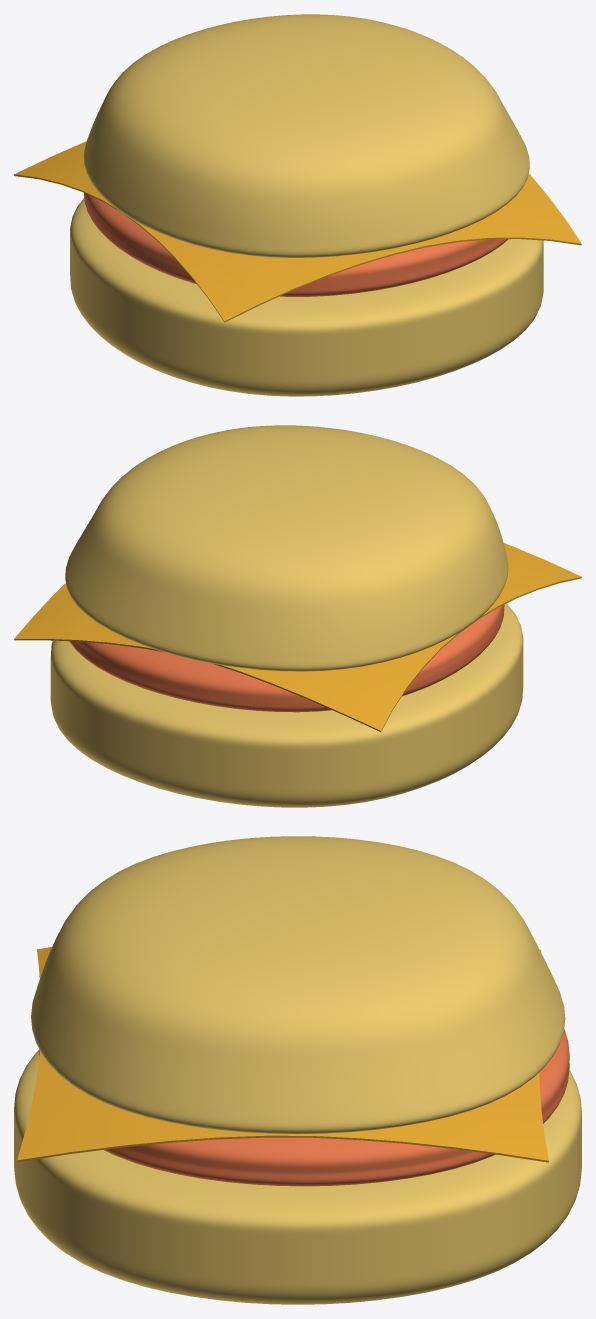
Rendered from hamburger.glb.
3 views of the same model, one above another, from view 1: azimuth 30°, elevation 25°; view 2: azimuth 150°, elevation 25°; view 3: azimuth 270°, elevation 25° (orthographic). The views are drawn at different scales.
Visible parts, largest first — view 1: Cube.002, Cube, Plane, Cube.001; view 2: Cube.002, Cube, Plane, Cube.001; view 3: Cube.002, Cube, Plane, Cube.001.
Part boxes in pixels (x1=…): Cube.002: x1=83, y1=14, x2=529, y2=257; Cube: x1=70, y1=198, x2=543, y2=396; Plane: x1=14, y1=141, x2=581, y2=322; Cube.001: x1=84, y1=193, x2=507, y2=296; Cube.002: x1=65, y1=425, x2=508, y2=671; Cube: x1=50, y1=603, x2=523, y2=807; Plane: x1=14, y1=543, x2=581, y2=731; Cube.001: x1=69, y1=604, x2=504, y2=712; Cube.002: x1=31, y1=836, x2=565, y2=1134; Cube: x1=14, y1=1050, x2=581, y2=1304; Plane: x1=17, y1=947, x2=548, y2=1162; Cube.001: x1=39, y1=1029, x2=569, y2=1186.
Size of the model in its own units: 20.18 by 12.25 by 20.18.
